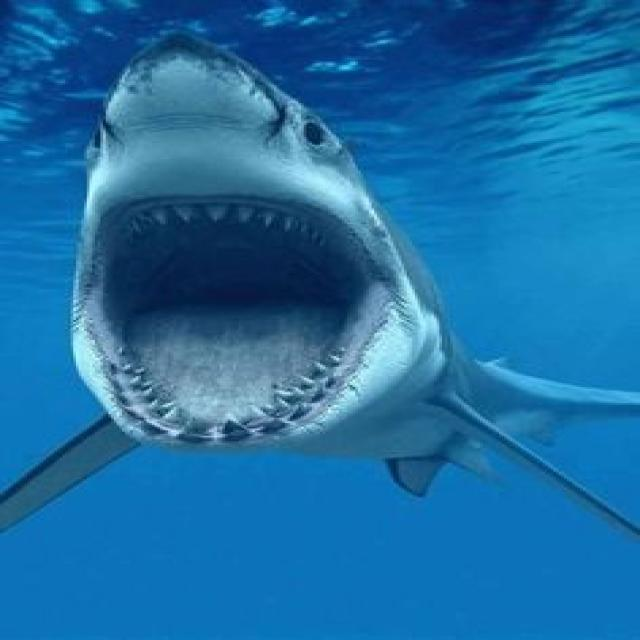Carnivorous: (0, 27, 640, 548)
